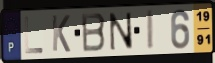6: (169, 8, 191, 51)
B: (80, 11, 107, 54)
I: (145, 9, 156, 52)
K: (50, 14, 71, 54)
L: (23, 16, 45, 56)
N: (108, 11, 135, 52)
